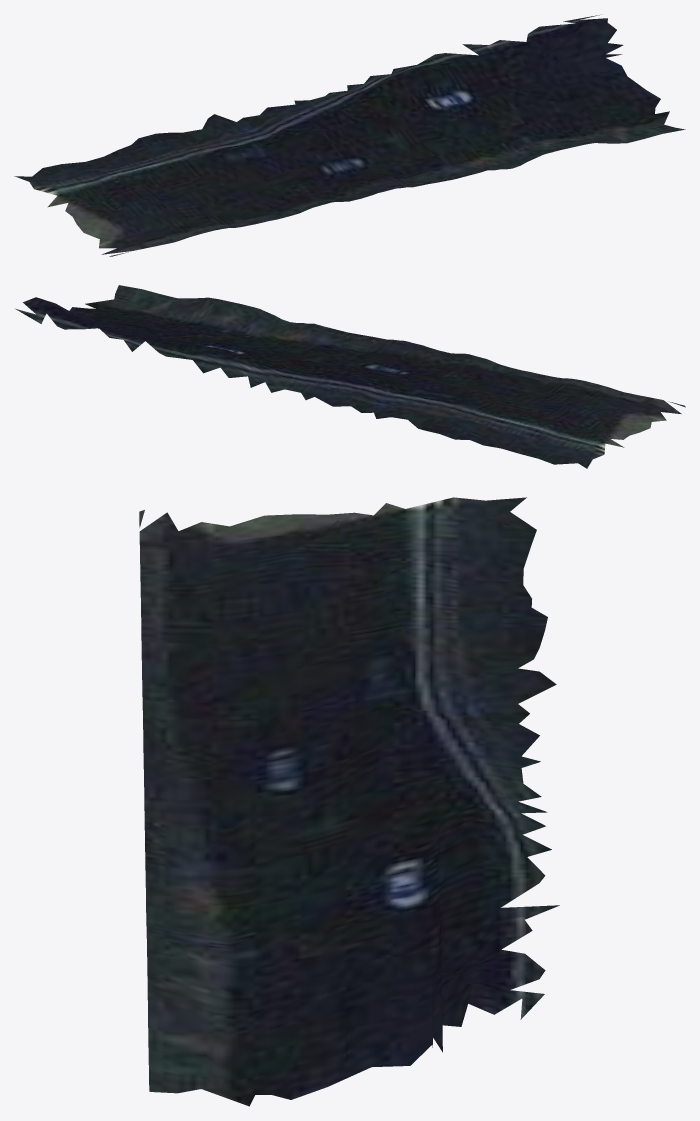
File: Tile_001_003_L14_313.glb
3 renders of one model, top to bottom at view 1: azimuth 30°, elevation 25°; view 2: azimuth 150°, elevation 25°; view 3: azimuth 270°, elevation 25°, orthographic. The views are drawn at different scales.
Visible parts, largest first — view 1: rtc; view 2: rtc; view 3: rtc.
Boxes of the visible parts, x1=… form: rtc: x1=14, y1=14, x2=685, y2=256; rtc: x1=15, y1=285, x2=685, y2=468; rtc: x1=139, y1=497, x2=559, y2=1106.
Bounding box in the file's own units: 70.97 × 5.89 × 22.31.
Materials: 1 (1 with a texture image).
